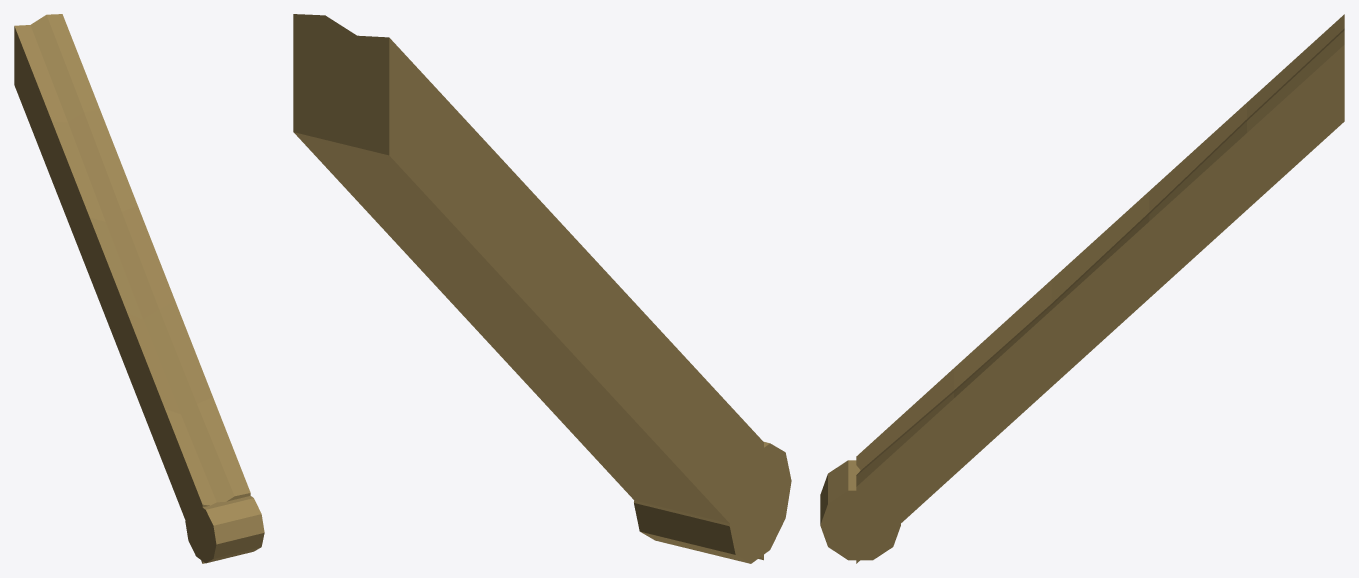
Rendered from mdvl_village_thatch_verge_01.glb.
3 views of the same model, side by side, from view 1: azimuth 30°, elevation 25°; view 2: azimuth 150°, elevation 25°; view 3: azimuth 270°, elevation 25° (orthographic). The views are drawn at different scales.
Visible parts, largest first — view 1: mdvl_village_thatch_verge_01; view 2: mdvl_village_thatch_verge_01; view 3: mdvl_village_thatch_verge_01.
Boxes of the visible parts, x1,y1,x2,y2 form: mdvl_village_thatch_verge_01: [14, 14, 264, 563]; mdvl_village_thatch_verge_01: [293, 14, 791, 563]; mdvl_village_thatch_verge_01: [820, 14, 1344, 563].
Size of the model in its own units: 0.34 by 2.72 by 2.47.
Materials: 1 (1 with a texture image).
